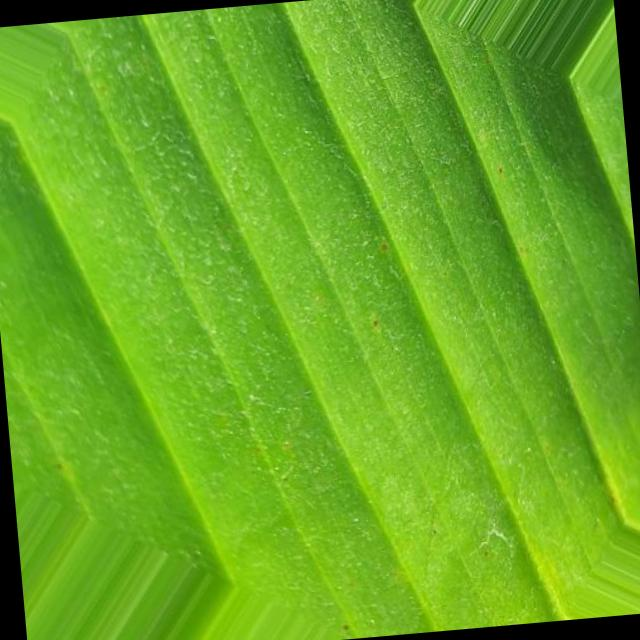Banana_Healthy: (124, 69, 594, 544)
